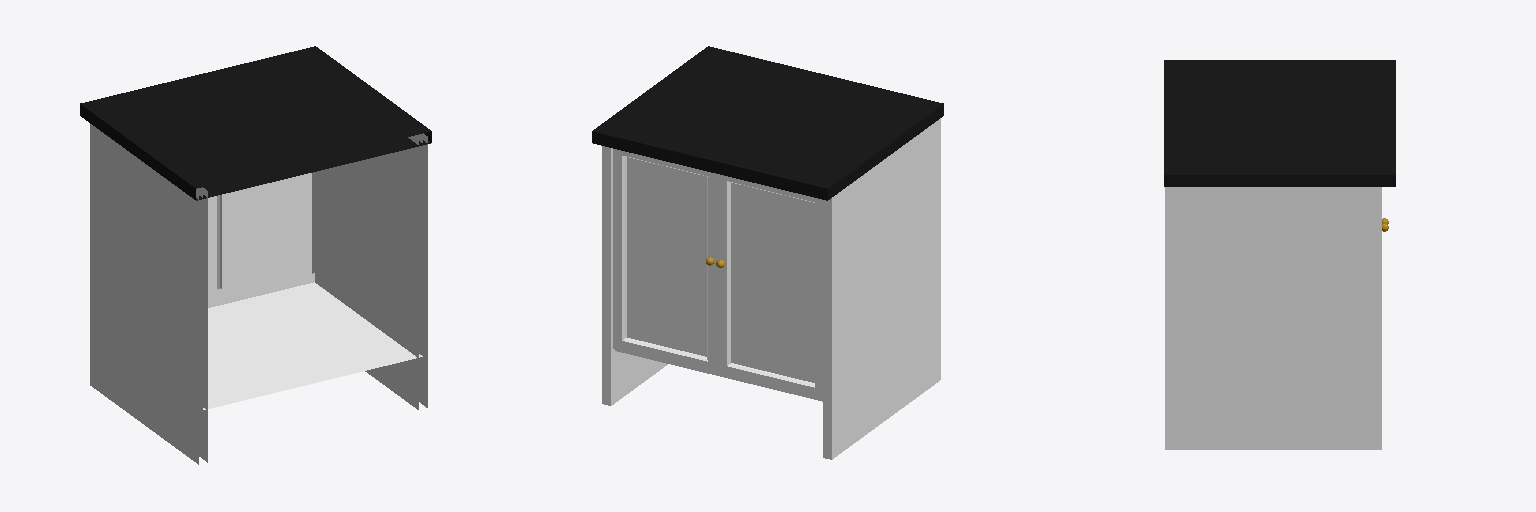
File: kitchenCabinet1.obj
3 views of the same model, side by side, from view 1: azimuth 30°, elevation 25°; view 2: azimuth 150°, elevation 25°; view 3: azimuth 270°, elevation 25° (orthographic).
Parts seen in each view (by area): view 1: kitchenCabinet1; view 2: kitchenCabinet1; view 3: kitchenCabinet1.
Part boxes in pixels (x1,y1,x2,y2): kitchenCabinet1: (80, 46, 431, 464); kitchenCabinet1: (592, 46, 943, 459); kitchenCabinet1: (1164, 60, 1395, 449).
Bounding box in the file's own units: 0.8813 × 0.9889 × 0.7526.